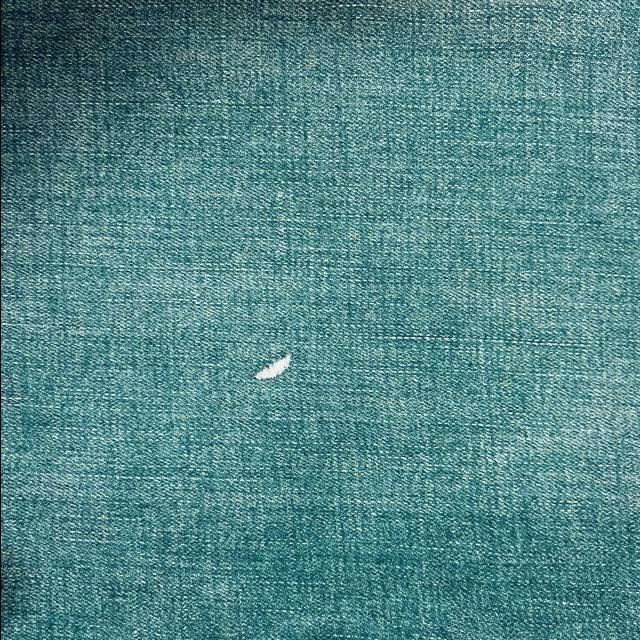Knot: (254, 356, 289, 381)
